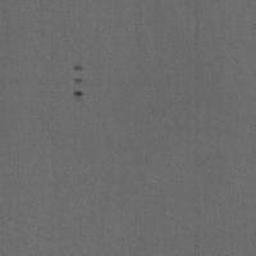Inclusion: (73, 91, 83, 97), (74, 65, 83, 71), (74, 78, 82, 83)
